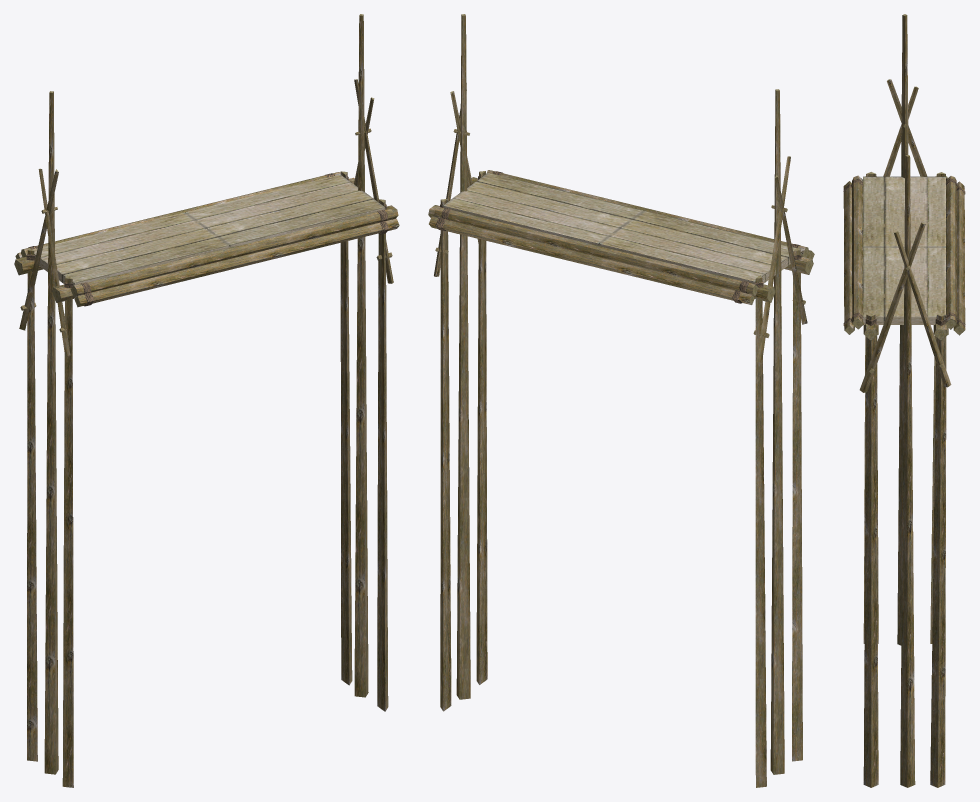
Rendered from thm_endr_lake_platform_cap_s01_l1.fbx.
The picture shows the model from 3 angles, left to right: view 1: azimuth 30°, elevation 25°; view 2: azimuth 150°, elevation 25°; view 3: azimuth 270°, elevation 25°; orthographic projection. The views are drawn at different scales.
Visible parts, largest first — view 1: mesh_node; view 2: mesh_node; view 3: mesh_node.
Boxes of the visible parts, x1=… form: mesh_node: x1=14, y1=14, x2=399, y2=787; mesh_node: x1=428, y1=14, x2=814, y2=787; mesh_node: x1=843, y1=14, x2=965, y2=787.
Size of the model in its own units: 8.68 by 16.68 by 2.93.
